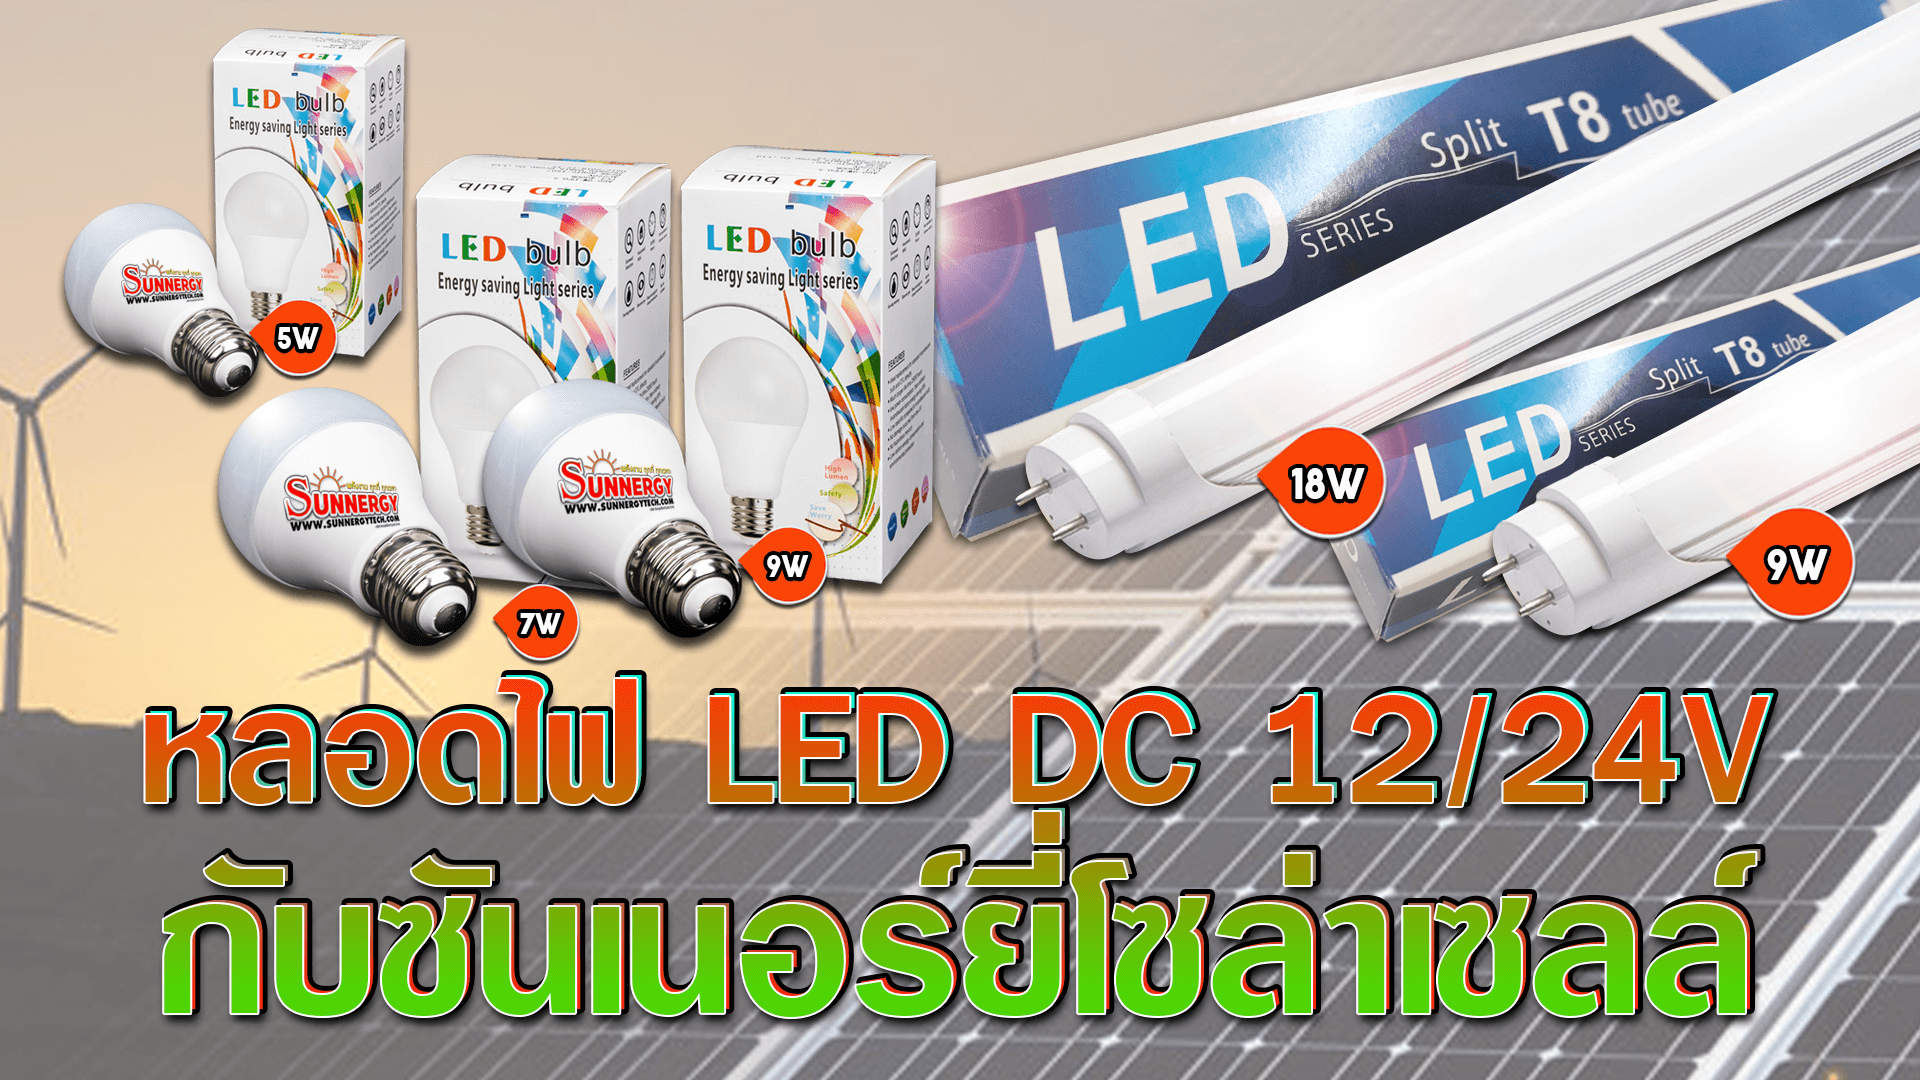Light_bulb: (998, 1, 1920, 563), (1487, 287, 1920, 650), (204, 378, 479, 661), (469, 368, 745, 645), (61, 200, 278, 405)
